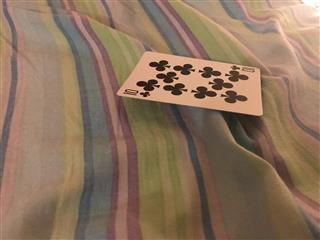TenOfClubs: (115, 50, 263, 117)
